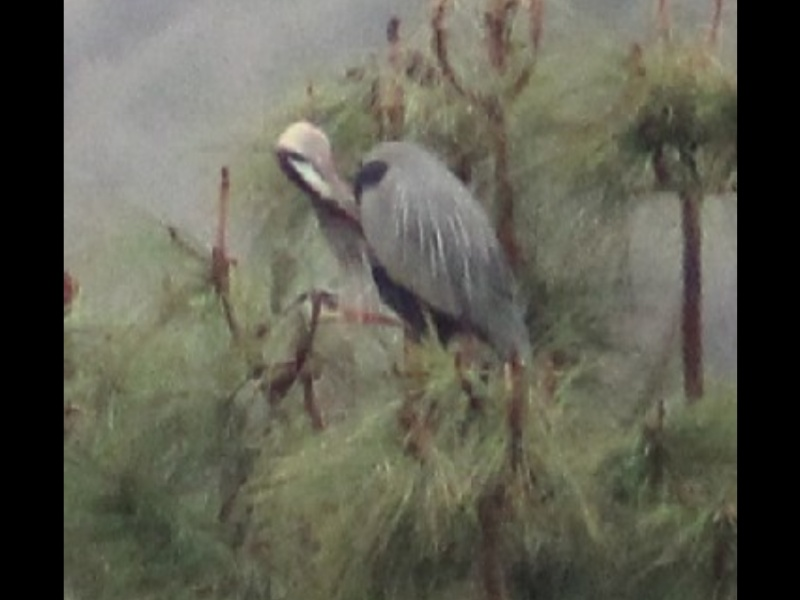heron: (269, 116, 534, 399)
